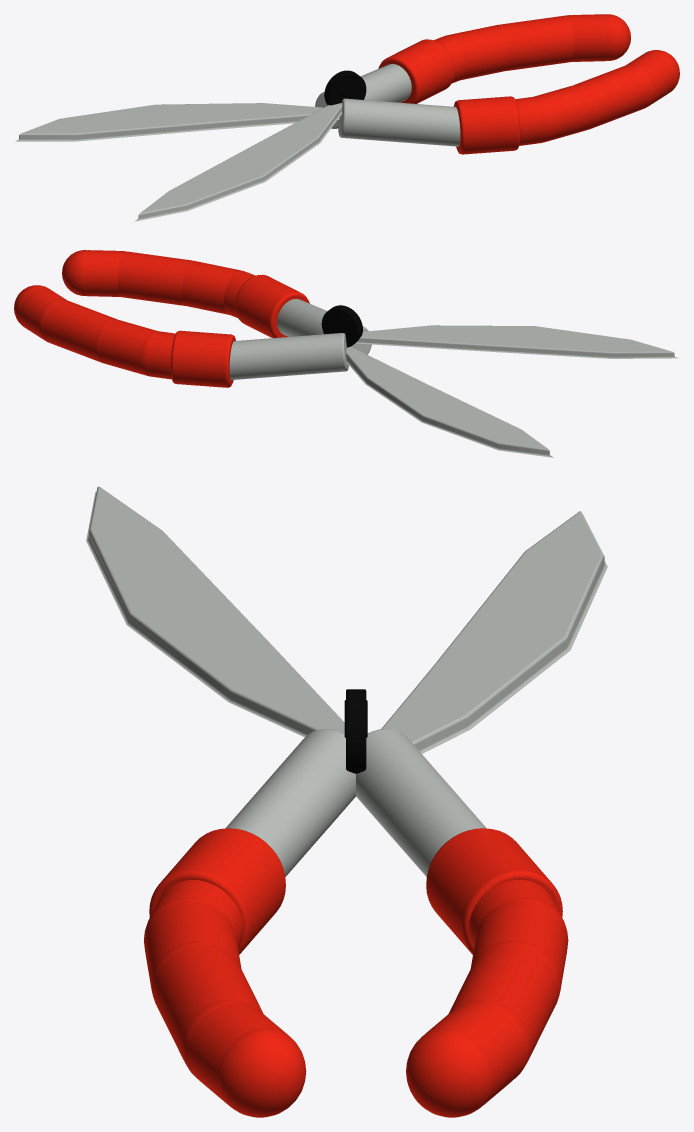
The model's file is Secateur.obj.
The picture shows the model from 3 angles, top to bottom: view 1: azimuth 30°, elevation 25°; view 2: azimuth 150°, elevation 25°; view 3: azimuth 270°, elevation 25°; orthographic projection. The views are drawn at different scales.
Parts seen in each view (by area): view 1: SM_Secateur_Upper_Red_Handle_Moving, SM_Secateur_Lower_Red_Handle_Fixed, SM_Secateur_Lower_Blade_Fixed, SM_Secateur_Upper_Blade_Moving, SM_Secateur_Lower_Metal_Neck, SM_Secateur_Lower_Red_Transition, SM_Secateur_Upper_Red_Transition, SM_Secateur_Upper_Metal_Neck, SM_Secateur_Largee_Screw_Pivot; view 2: SM_Secateur_Lower_Red_Handle_Fixed, SM_Secateur_Upper_Red_Handle_Moving, SM_Secateur_Upper_Blade_Moving, SM_Secateur_Lower_Blade_Fixed, SM_Secateur_Upper_Metal_Neck, SM_Secateur_Upper_Red_Transition, SM_Secateur_Lower_Red_Transition, SM_Secateur_Lower_Metal_Neck, SM_Secateur_Largee_Screw_Pivot; view 3: SM_Secateur_Upper_Blade_Moving, SM_Secateur_Upper_Red_Handle_Moving, SM_Secateur_Lower_Red_Handle_Fixed, SM_Secateur_Lower_Blade_Fixed, SM_Secateur_Upper_Metal_Neck, SM_Secateur_Lower_Metal_Neck, SM_Secateur_Upper_Red_Transition, SM_Secateur_Lower_Red_Transition, SM_Secateur_Largee_Screw_Pivot.
Part boxes in pixels (box(x1,y1,x2,y2)): SM_Secateur_Upper_Red_Handle_Moving: box(434, 14, 630, 83); SM_Secateur_Lower_Red_Handle_Fixed: box(515, 50, 679, 145); SM_Secateur_Lower_Blade_Fixed: box(15, 103, 339, 141); SM_Secateur_Upper_Blade_Moving: box(135, 103, 342, 221); SM_Secateur_Lower_Metal_Neck: box(338, 98, 460, 146); SM_Secateur_Lower_Red_Transition: box(453, 96, 520, 154); SM_Secateur_Upper_Red_Transition: box(378, 39, 454, 103); SM_Secateur_Upper_Metal_Neck: box(315, 64, 411, 128); SM_Secateur_Largee_Screw_Pivot: box(324, 70, 366, 105); SM_Secateur_Lower_Red_Handle_Fixed: box(62, 250, 255, 317); SM_Secateur_Upper_Red_Handle_Moving: box(14, 285, 175, 379); SM_Secateur_Upper_Blade_Moving: box(355, 325, 678, 358); SM_Secateur_Lower_Blade_Fixed: box(346, 346, 553, 457); SM_Secateur_Upper_Metal_Neck: box(229, 333, 348, 379); SM_Secateur_Upper_Red_Transition: box(170, 330, 235, 387); SM_Secateur_Lower_Red_Transition: box(235, 274, 309, 337); SM_Secateur_Lower_Metal_Neck: box(277, 299, 371, 354); SM_Secateur_Largee_Screw_Pivot: box(321, 305, 362, 347); SM_Secateur_Upper_Blade_Moving: box(86, 486, 344, 737); SM_Secateur_Upper_Red_Handle_Moving: box(406, 880, 568, 1117); SM_Secateur_Lower_Red_Handle_Fixed: box(144, 879, 306, 1117); SM_Secateur_Lower_Blade_Fixed: box(381, 511, 607, 753); SM_Secateur_Upper_Metal_Neck: box(356, 729, 486, 876); SM_Secateur_Lower_Metal_Neck: box(225, 729, 355, 876); SM_Secateur_Upper_Red_Transition: box(426, 828, 562, 954); SM_Secateur_Lower_Red_Transition: box(149, 828, 285, 954); SM_Secateur_Largee_Screw_Pivot: box(346, 689, 366, 773).
Size of the model in its own units: 3.59 by 0.455 by 1.41.
